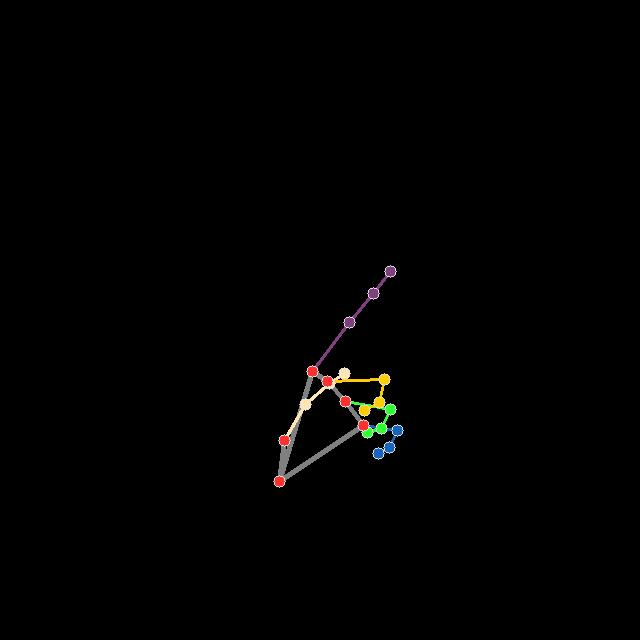gun: (269, 259, 413, 495)
